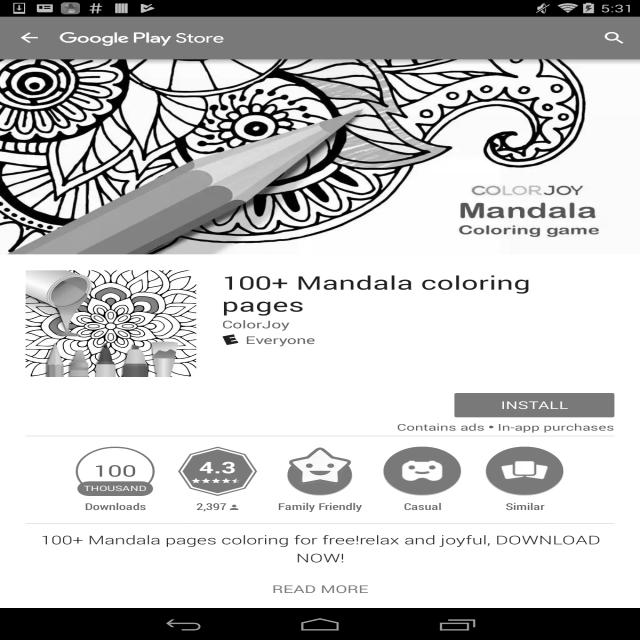Button: (170, 447, 264, 512), (273, 447, 367, 512), (376, 447, 470, 512), (478, 447, 572, 512), (454, 393, 614, 417)
ImageButton: (0, 17, 60, 59)
ImageView: (0, 59, 640, 254), (26, 270, 196, 377), (383, 447, 462, 496), (486, 447, 564, 496), (287, 455, 353, 496), (60, 30, 224, 46), (289, 447, 351, 485), (222, 334, 239, 345), (230, 505, 238, 510)
TextView: (0, 531, 640, 578), (222, 270, 614, 317), (0, 578, 640, 596), (589, 22, 640, 54), (68, 496, 162, 513), (273, 496, 367, 513), (376, 496, 470, 513), (478, 496, 572, 513), (498, 421, 614, 433), (397, 421, 485, 433), (245, 333, 316, 347), (222, 317, 289, 331), (199, 456, 236, 478), (94, 462, 136, 481), (82, 484, 148, 493), (196, 496, 227, 513)
